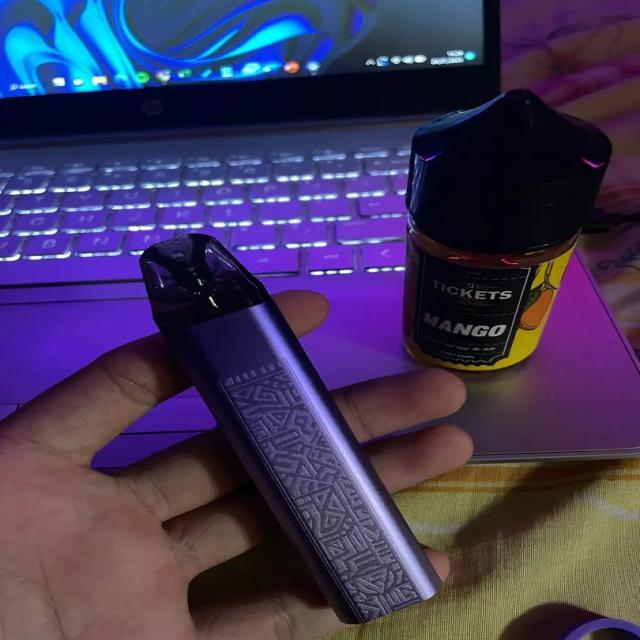Hazard: (134, 232, 444, 626)
